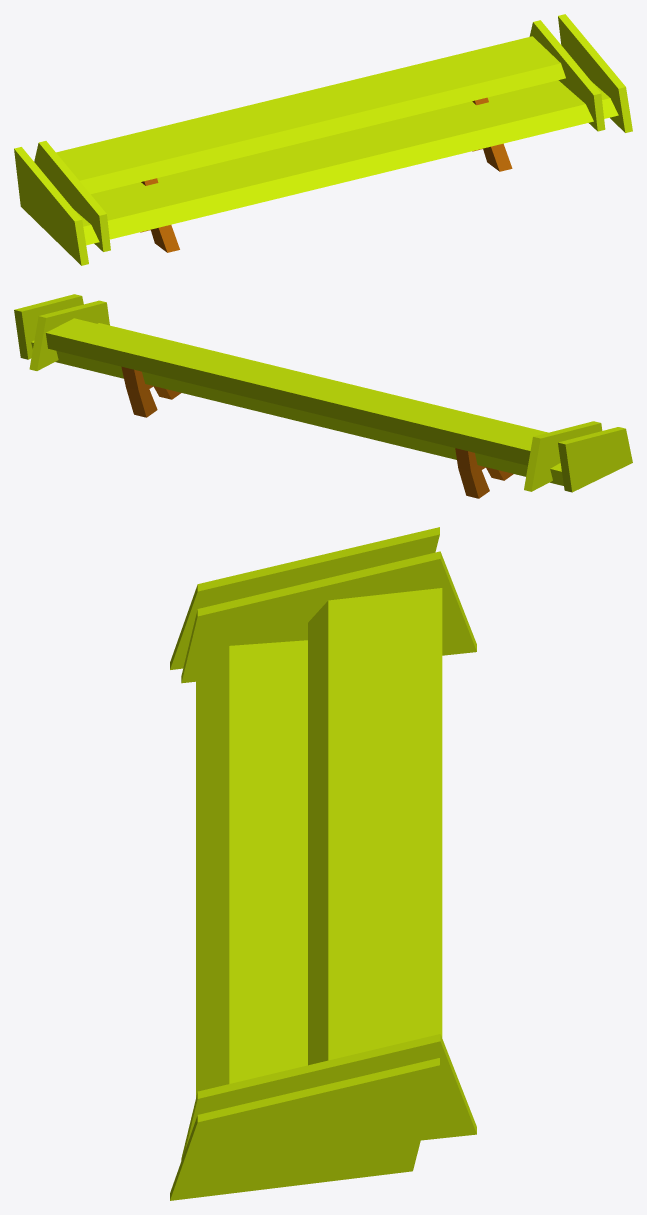
The model's file is Spoiler12_ColorCoded.fbx.
3 views of the same model, one above another, from view 1: azimuth 30°, elevation 25°; view 2: azimuth 150°, elevation 25°; view 3: azimuth 270°, elevation 25° (orthographic). The views are drawn at different scales.
Visible parts, largest first — view 1: Spoiler12; view 2: Spoiler12; view 3: Spoiler12.
Part boxes in pixels (x1,y1,x2,y2): Spoiler12: (14,14,632,265); Spoiler12: (14,294,632,498); Spoiler12: (170,527,476,1200).
Size of the model in its own units: 43.46 by 10.48 by 6.82.
